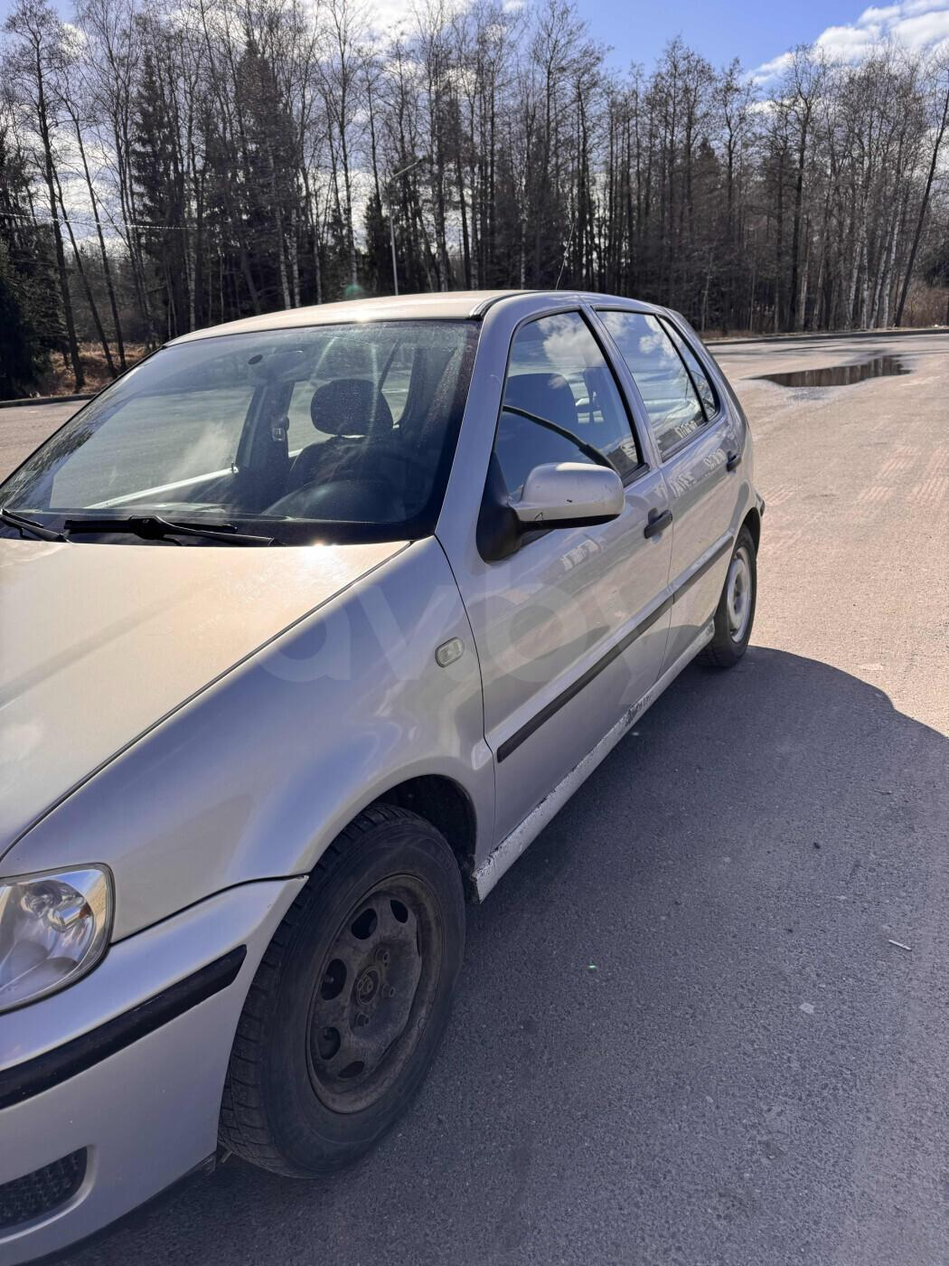Polo_2000-2002: (0, 283, 791, 1266)
